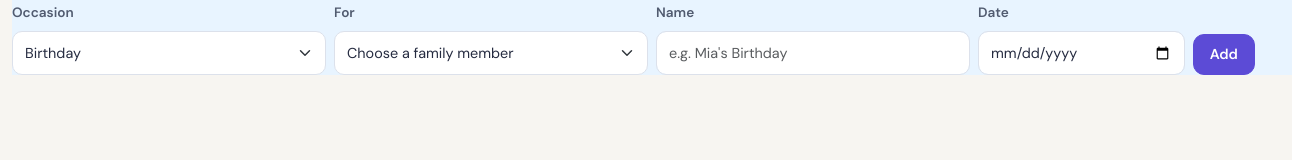
family special days › populates members, defaults Christmas to All family, and fills a person's birthday
Select "Christmas" in the dropdown labelled "Occasion" at point(169, 53), box [12,31,326,75]
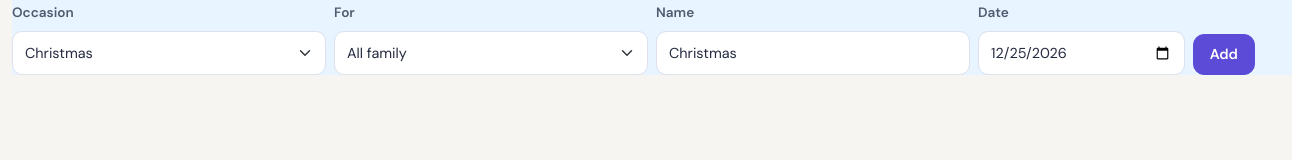
Now the dropdown labelled "For" shows "All family", box [334,31,648,75]
Now the field labelled "Name" holds "Christmas", box [656,31,970,75]
Select "Birthday" in the dropdown labelled "Occasion" at point(169, 53), box [12,31,326,75]
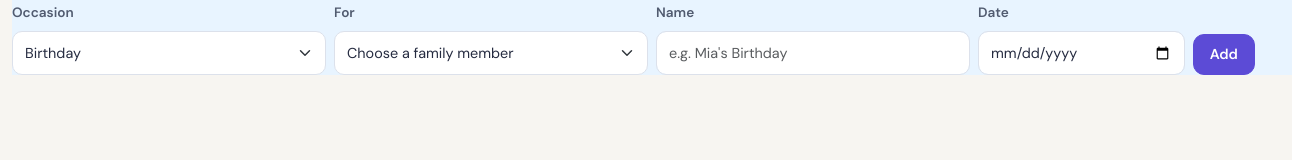
Now the dropdown labelled "For" shows "Choose a family member"
Select "Mia" in the dropdown labelled "For" at point(491, 53), box [334,31,648,75]
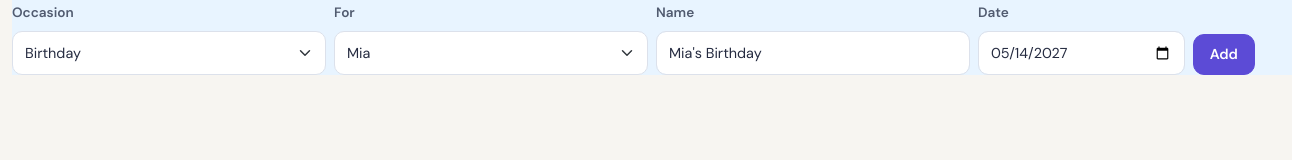
Now the field labelled "Name" holds "Mia's Birthday", box [656,31,970,75]
Select "Sam" in the dropdown labelled "For" at point(491, 53), box [334,31,648,75]
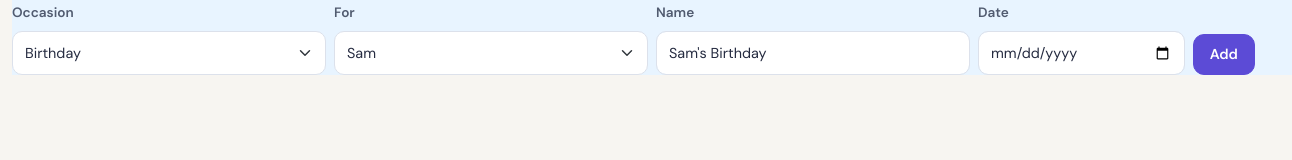
Now the field labelled "Name" holds "Sam's Birthday", box [656,31,970,75]
Now the date field labelled "Date" is empty, box [978,31,1185,75]
